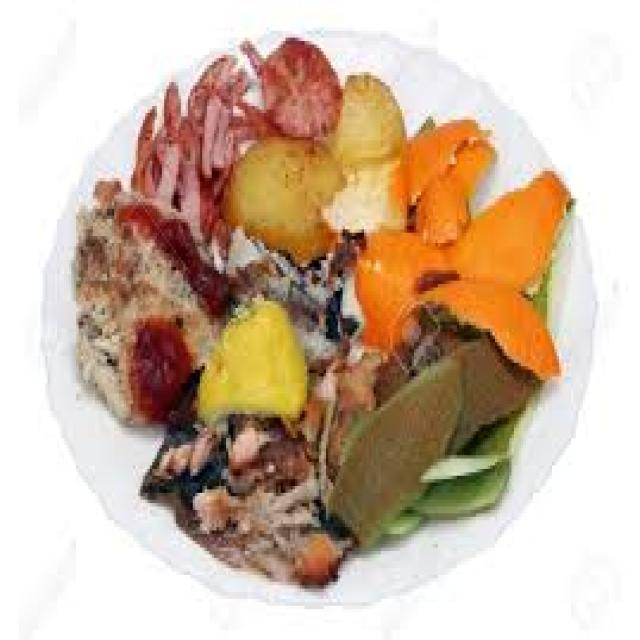food_waste: (79, 38, 569, 582)
